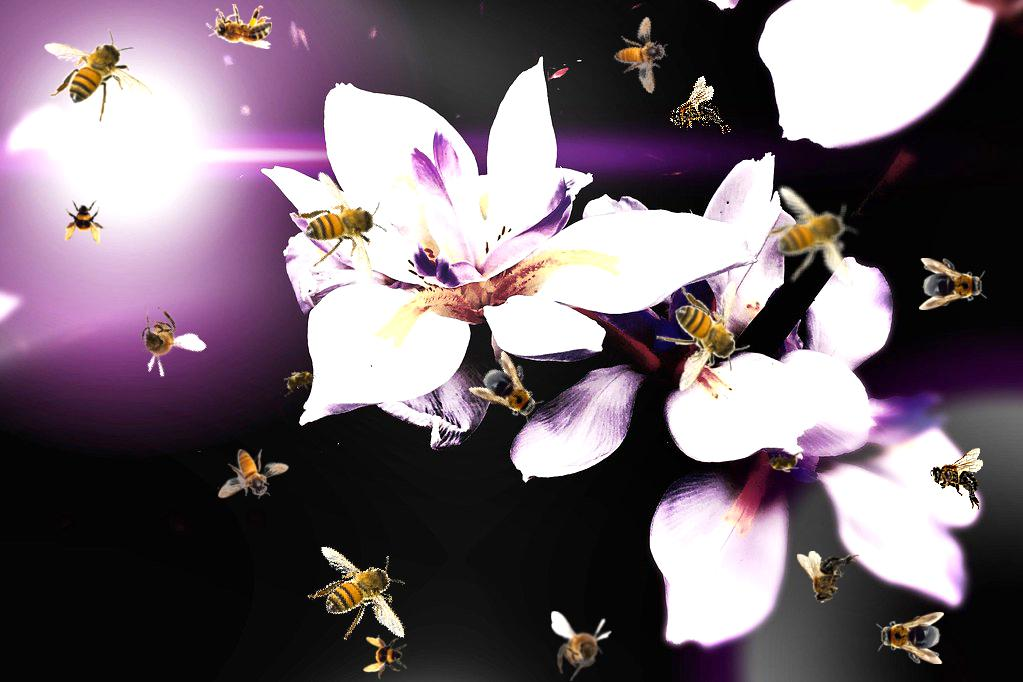Bee: (269, 159, 416, 303), (742, 171, 885, 309), (292, 531, 431, 661), (44, 29, 155, 123), (656, 281, 750, 392), (115, 294, 208, 388), (468, 349, 554, 433), (658, 74, 735, 154), (606, 10, 678, 95), (551, 611, 612, 681), (218, 449, 289, 499), (876, 612, 944, 664), (919, 258, 987, 310), (797, 551, 859, 604), (930, 448, 983, 510), (206, 4, 272, 49), (363, 635, 407, 679), (63, 200, 107, 244), (278, 364, 324, 398), (763, 451, 803, 473)
